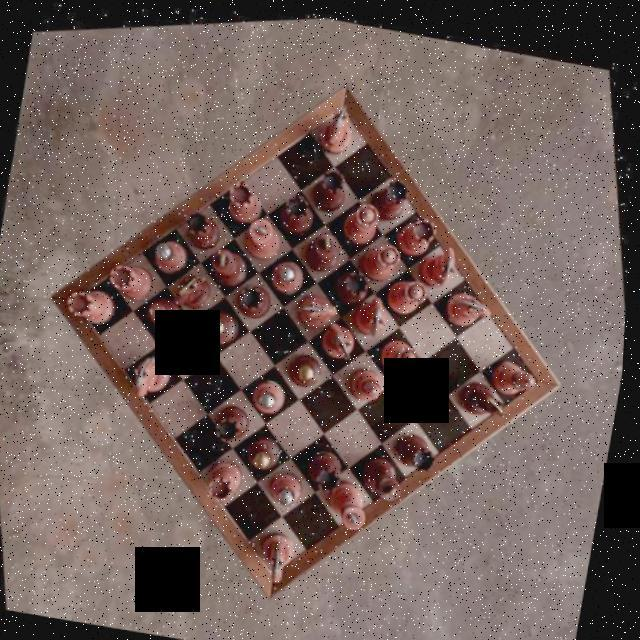chess-table-corners: (66, 278, 104, 318), (323, 84, 359, 124), (266, 550, 296, 582), (520, 356, 550, 387)
